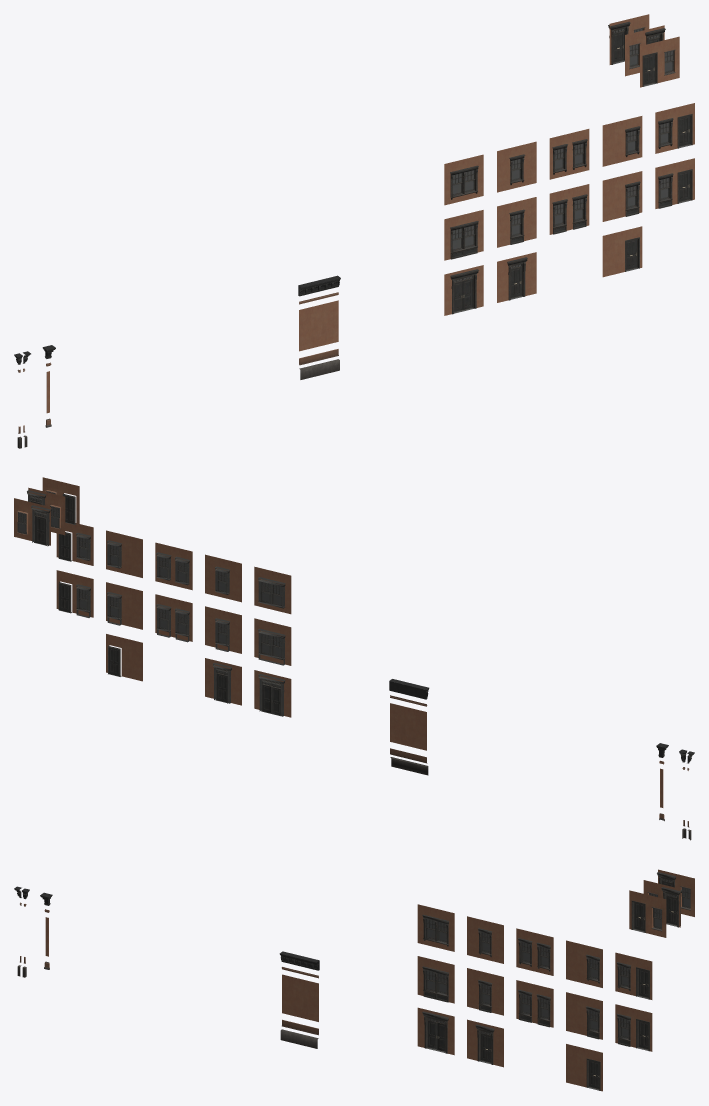
The model's file is modular_urban_apartments_facade.glb.
The picture shows the model from 3 angles, top to bottom: view 1: azimuth 30°, elevation 25°; view 2: azimuth 150°, elevation 25°; view 3: azimuth 330°, elevation 25°; orthographic projection. The views are drawn at different scales.
Parts seen in each view (by area): view 1: wall_standard_standard_01, wall_window_offset_small_03, wall_window_centered_small_02, wall_window_offset_small_01, wall_window_centered_small_01, wall_door_offset_small_01, wall_door_centered_small_01, wall_door_window_small_010, wall_window_centered_double_02, door_centered_large_01, door_window_small_01, wall_window_centered_large_02 (+13 smaller); view 2: wall_standard_standard_01, wall_window_centered_small_02, wall_window_offset_small_03, wall_window_centered_small_01, wall_window_offset_small_01, wall_door_offset_small_01, door_centered_large_01, door_window_small_012, wall_window_centered_large_02, wall_door_centered_small_01, wall_window_centered_large_01, window_centered_double_01 (+14 smaller); view 3: wall_standard_standard_01, wall_window_centered_small_02, wall_window_offset_small_03, wall_window_offset_small_01, wall_window_centered_small_01, wall_door_offset_small_01, wall_door_window_small_010, wall_window_centered_large_02, wall_window_centered_double_02, wall_door_centered_small_01, door_centered_large_01, window_centered_double_01 (+21 smaller).
Boxes of the visible parts, x1,y1,x2,y2 form: wall_standard_standard_01: (299,300,338,351); wall_window_offset_small_03: (602,116,642,166); wall_window_centered_small_02: (497,141,536,192); wall_window_offset_small_01: (602,171,642,221); wall_window_centered_small_01: (497,197,536,247); wall_door_offset_small_01: (602,226,642,277); wall_door_centered_small_01: (497,252,536,302); wall_door_window_small_010: (640,36,679,87); wall_window_centered_double_02: (549,129,589,179); door_centered_large_01: (450,269,479,314); door_window_small_01: (658,169,692,208); wall_window_centered_large_02: (444,154,483,205); wall_standard_standard_01: (390,703,426,750); wall_window_centered_small_02: (205,554,241,602); wall_window_offset_small_03: (106,530,142,577); wall_window_centered_small_01: (205,606,241,653); wall_window_offset_small_01: (106,582,142,629); wall_door_offset_small_01: (106,634,142,681); door_centered_large_01: (258,674,285,716); door_window_small_012: (17,505,52,546); wall_window_centered_large_02: (254,566,291,614); wall_door_centered_small_01: (205,658,241,705); wall_window_centered_large_01: (254,618,291,665); window_centered_double_01: (156,604,189,642); wall_standard_standard_01: (282,974,318,1021); wall_window_centered_small_02: (467,916,503,963); wall_window_offset_small_03: (566,940,602,987); wall_window_offset_small_01: (566,992,602,1039); wall_window_centered_small_01: (467,968,503,1015); wall_door_offset_small_01: (566,1044,602,1091); wall_door_window_small_010: (629,890,666,937); wall_window_centered_large_02: (417,904,454,951); wall_window_centered_double_02: (516,928,553,975); wall_door_centered_small_01: (467,1019,503,1067); door_centered_large_01: (422,1011,448,1053); window_centered_double_01: (518,989,550,1027).
Bounding box in the file's own units: 51.53 × 17 × 6.67.
Materials: 5 (5 with a texture image).
